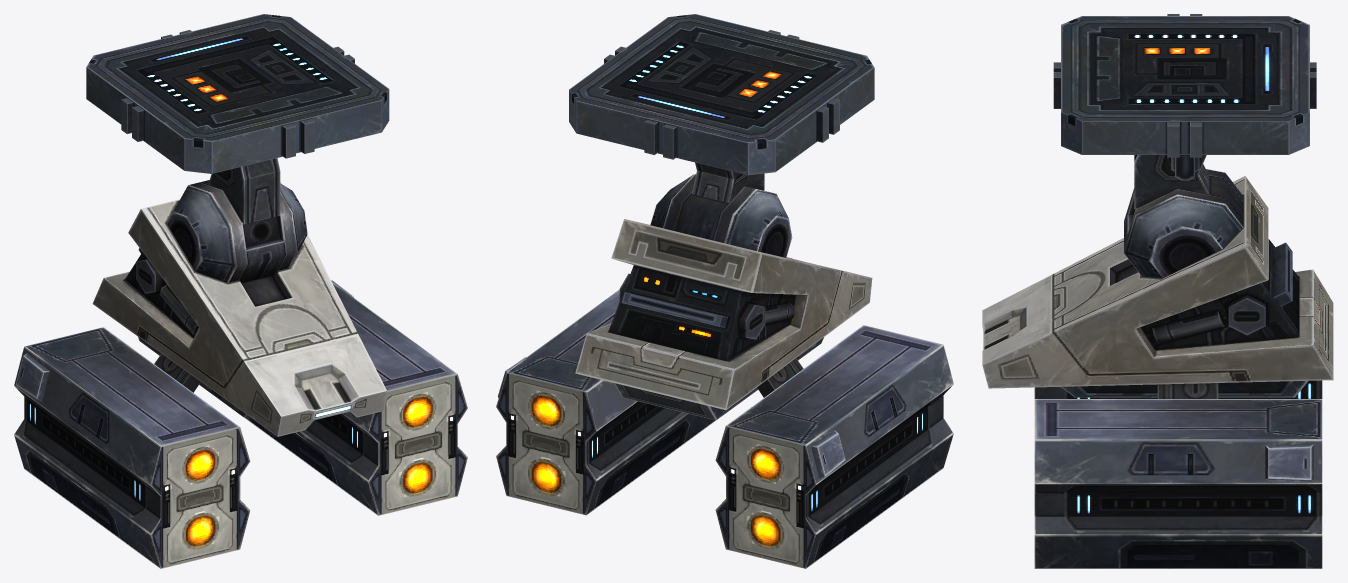
The model's file is bel_arch_rakata_security_camera.glb.
3 renders of one model, left to right at view 1: azimuth 30°, elevation 25°; view 2: azimuth 150°, elevation 25°; view 3: azimuth 270°, elevation 25°, orthographic. The views are drawn at different scales.
Visible parts, largest first — view 1: bel_arch_rakata_security_camera; view 2: bel_arch_rakata_security_camera; view 3: bel_arch_rakata_security_camera.
Part boxes in pixels (x1=…): bel_arch_rakata_security_camera: x1=14, y1=14, x2=467, y2=568; bel_arch_rakata_security_camera: x1=496, y1=14, x2=953, y2=568; bel_arch_rakata_security_camera: x1=982, y1=14, x2=1333, y2=568.
Bounding box in the file's own units: 0.4669 × 0.5527 × 0.4153.
1 material, 1 textured.
